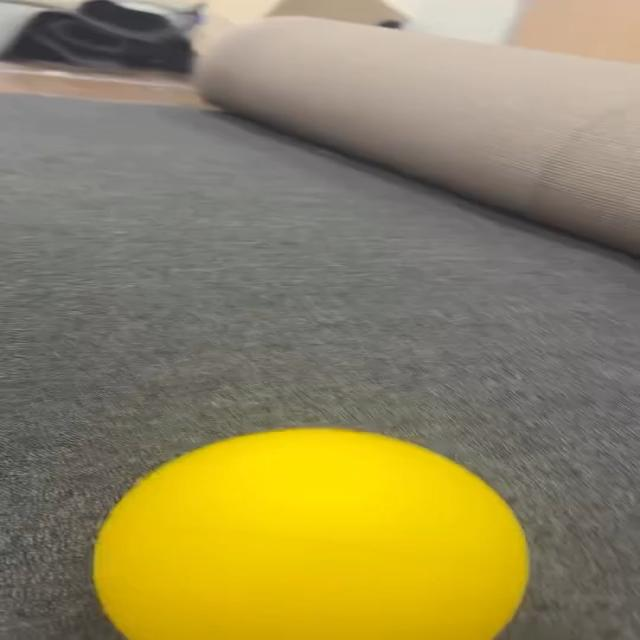Fuels: (94, 428, 525, 636)
